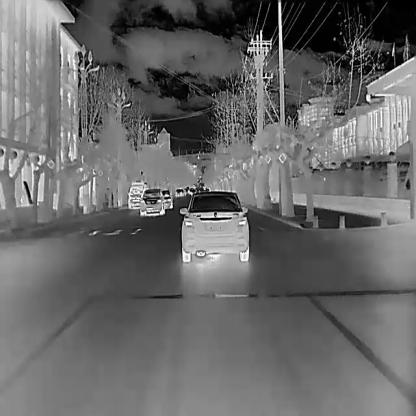car: (182, 191, 249, 262), (140, 188, 164, 215), (162, 187, 172, 208), (175, 188, 183, 197)
truck: (128, 180, 146, 208)
